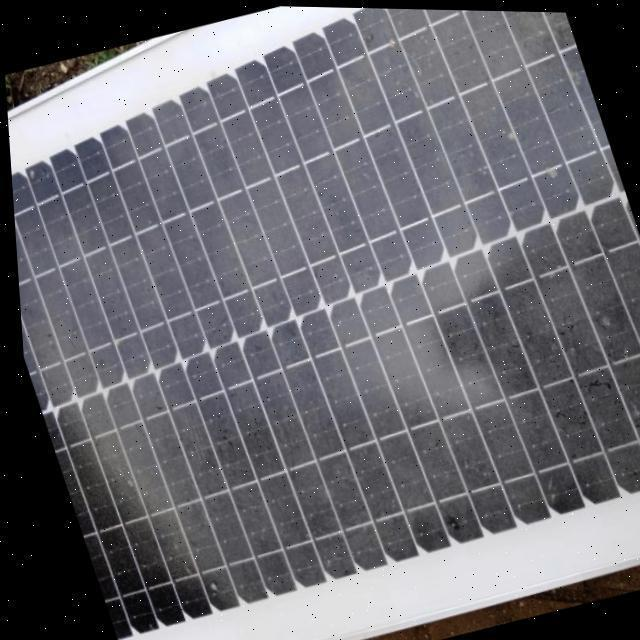Anomaly Solar Panel: (1, 10, 640, 640)
Surface Contaminant: (8, 19, 640, 640)
